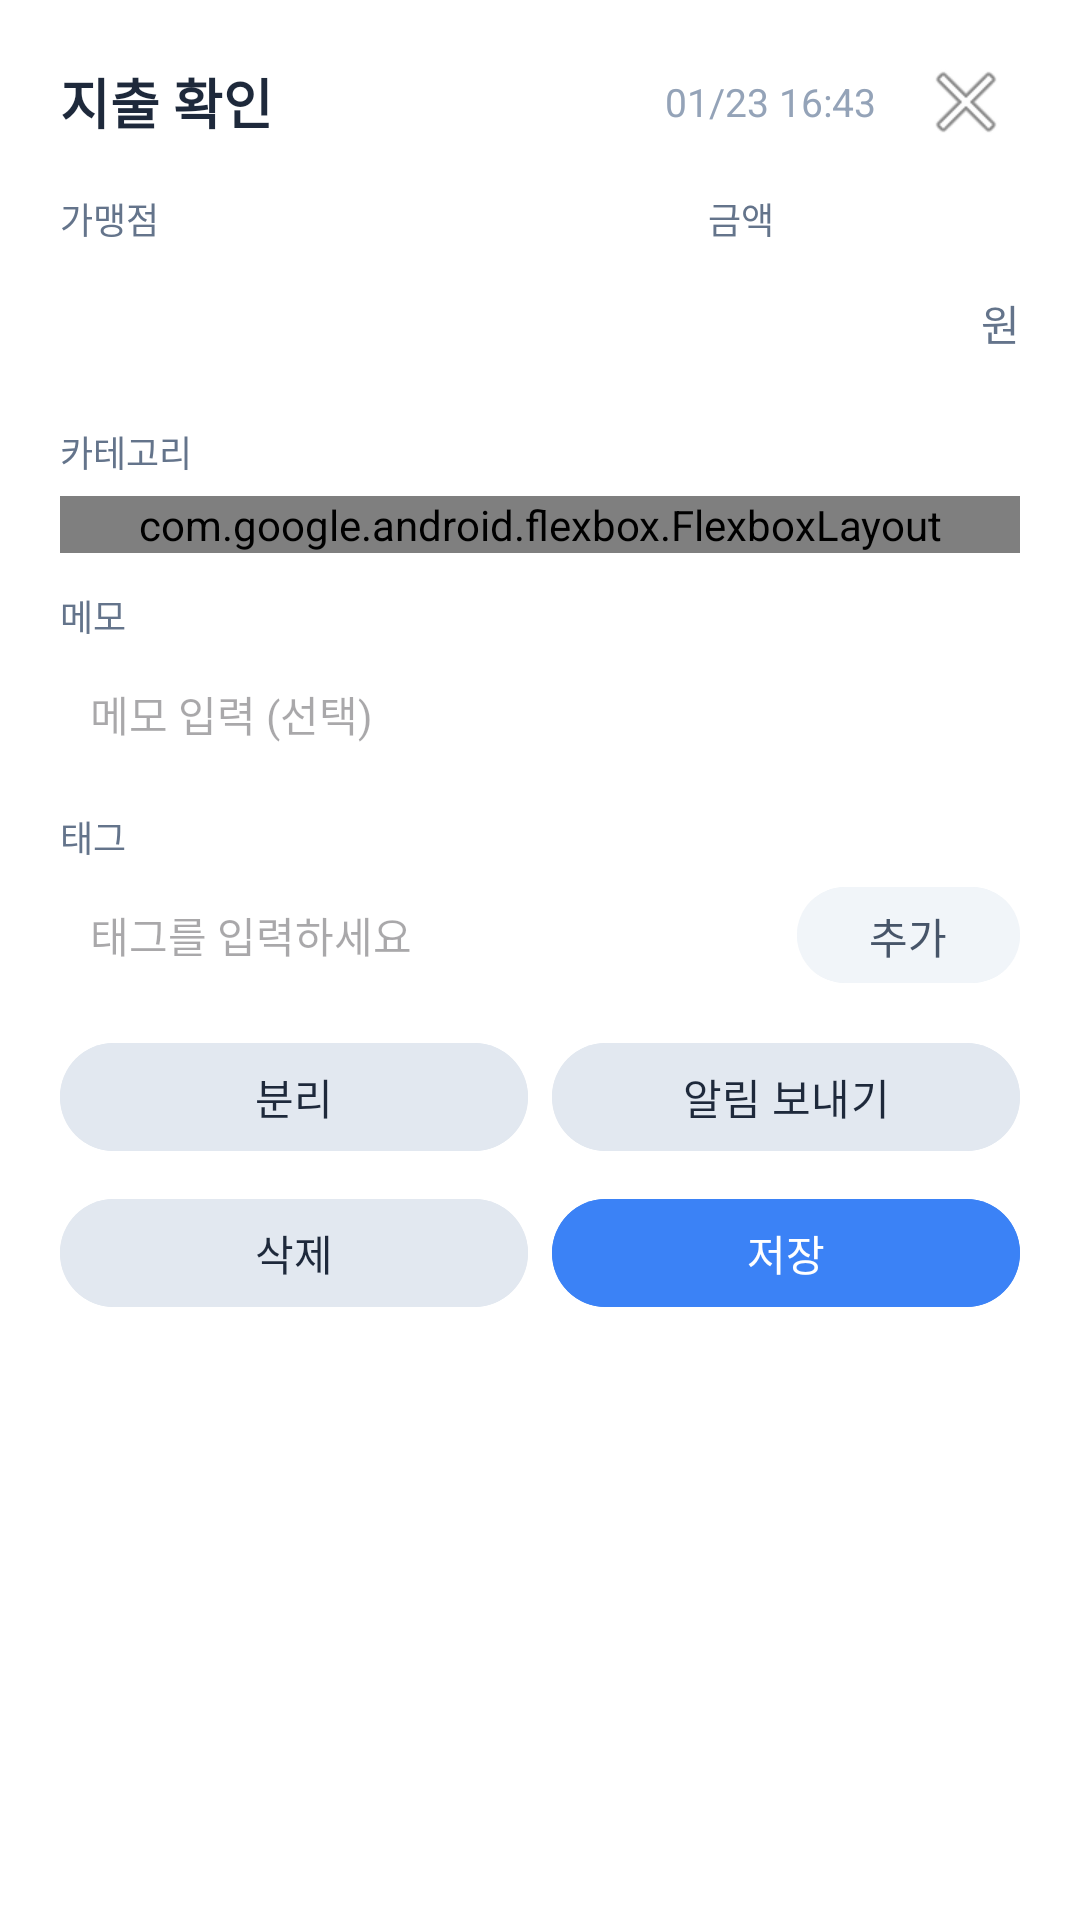

Named icons in this screenshot (1080*1920) and their bounding boxes, bbox=[x1, y1, x2, y2]:
닫기: bbox=[936, 72, 996, 132]
